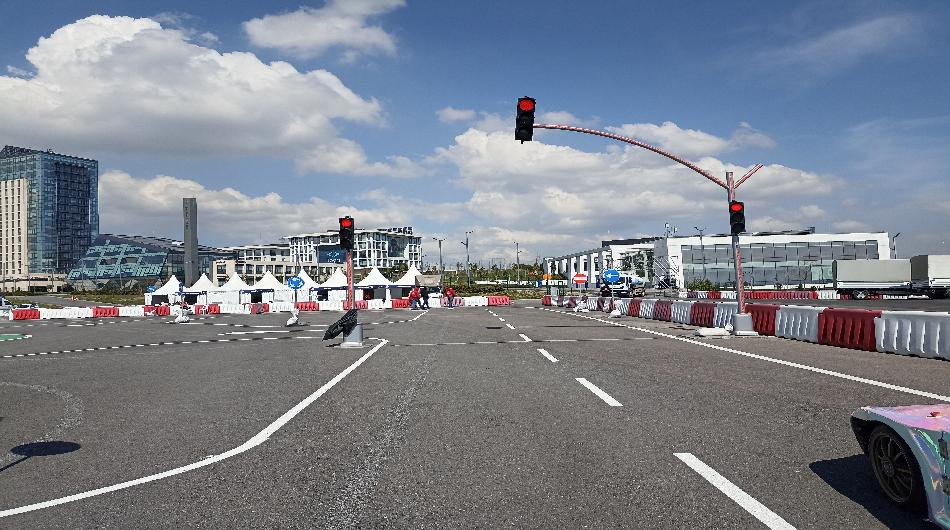red_light: (513, 96, 545, 144), (336, 213, 363, 254), (726, 200, 751, 234)
